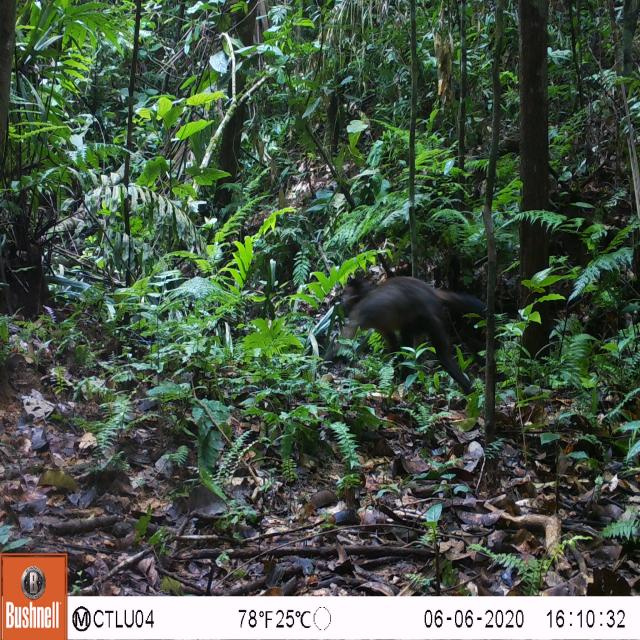Margarita Island Capuchin: (332, 267, 489, 393)
